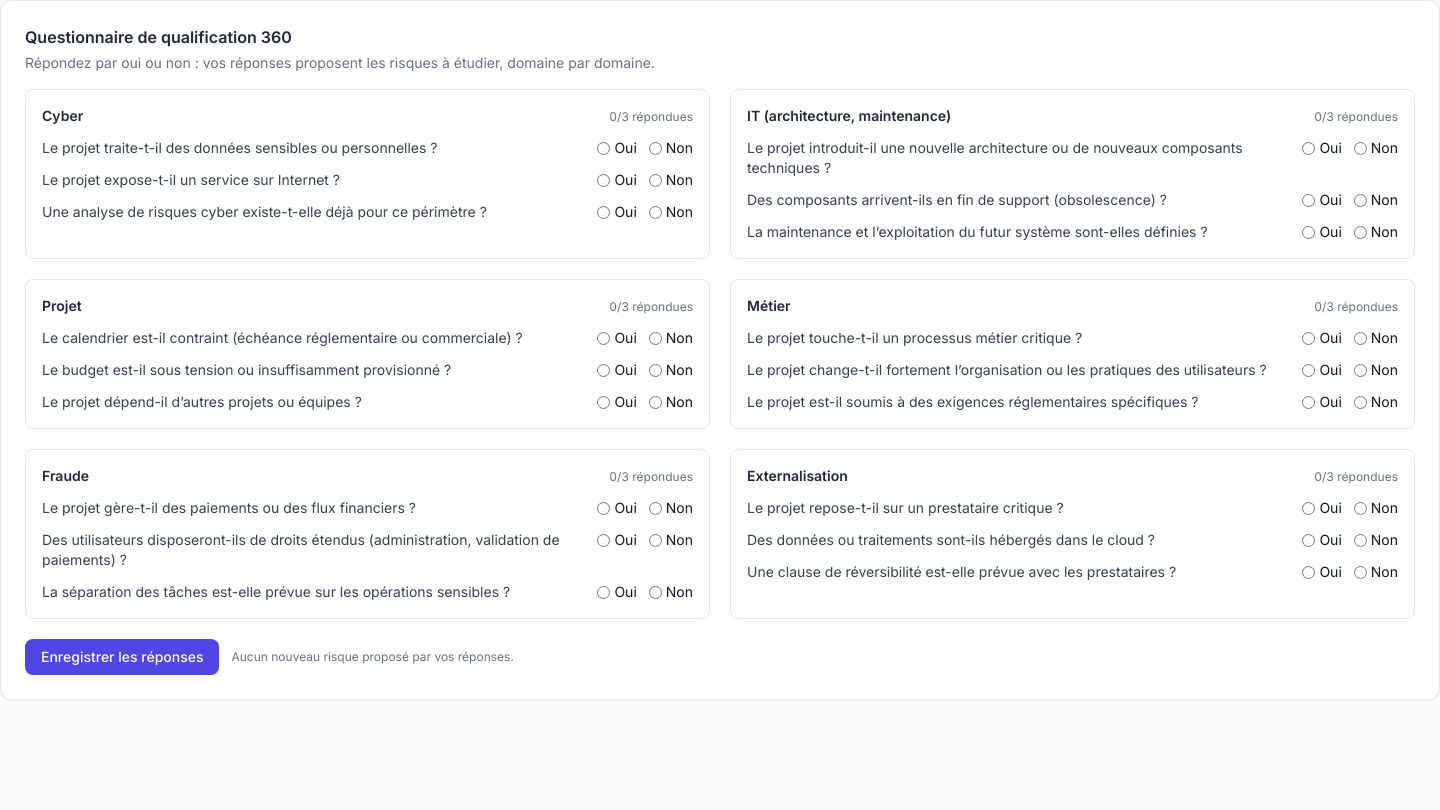
Questionnaire360 — persistance et risques proposés › après enregistrement, ouvre d’office la proposition des risques et remonte les réponses enregistrées
This screenshot has width=1440, height=810.
What coordinates should you click on to do the following:
click the 3rd radio button labelled "Oui"
I would click on:
 (604, 180)
Its box is [597,174,610,186].
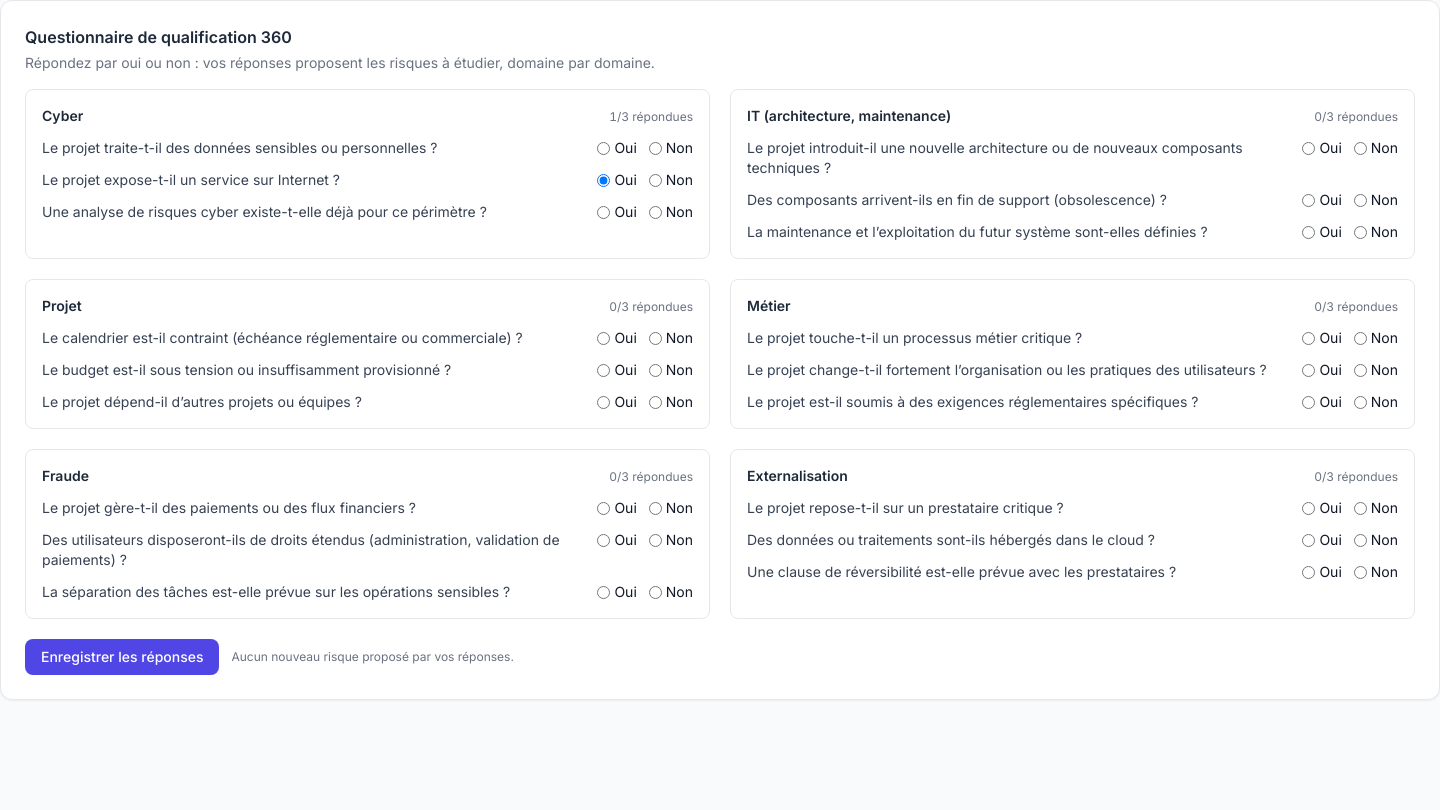
What coordinates should you click on to do the following:
click the button "Enregistrer les réponses"
I would click on:
 (122, 657)
Its box is [25,639,220,675].
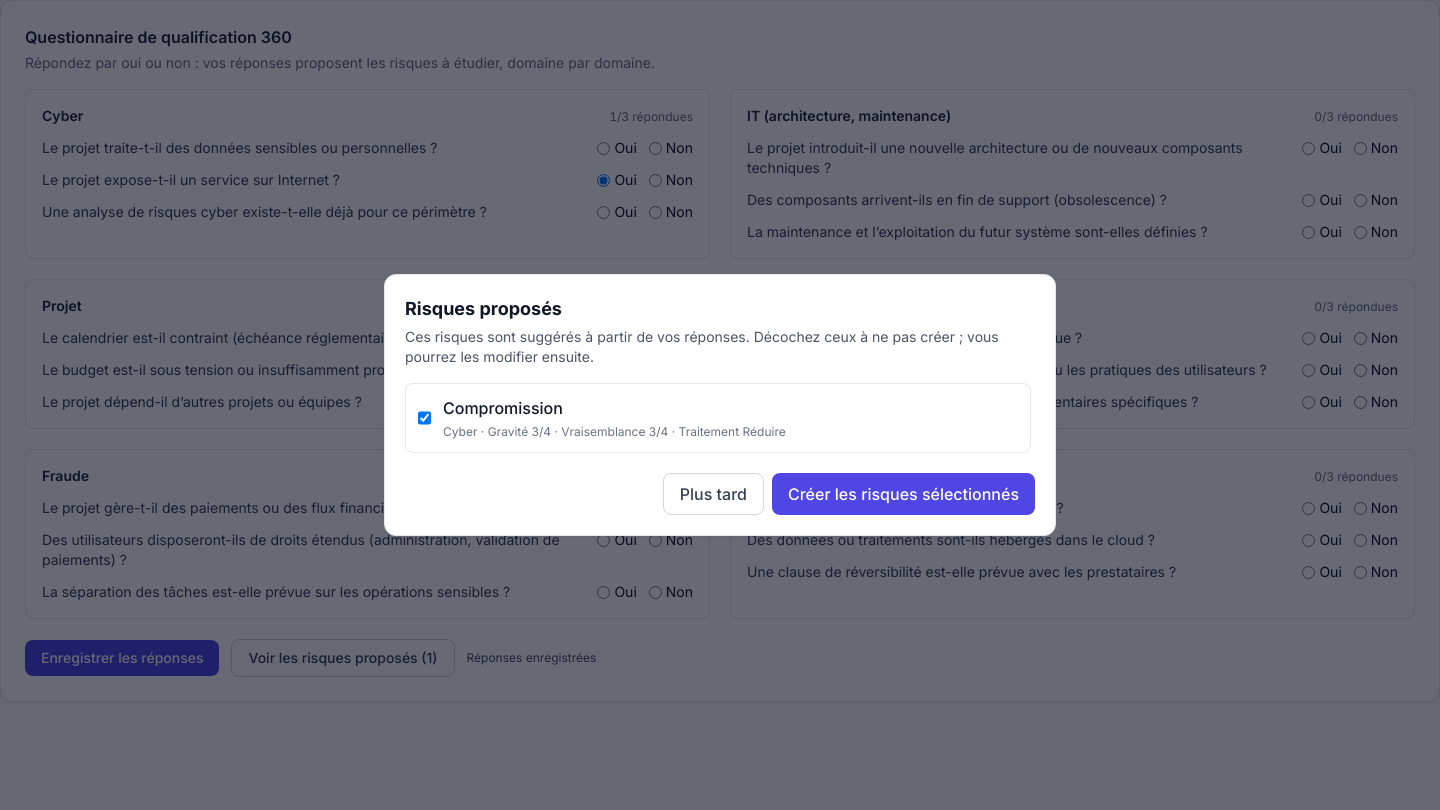
Expected: the dialog is shown
Expected: the text "Compromission" is shown, [443,398,563,418]
